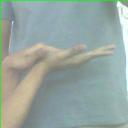hand: (39, 40, 117, 72)
